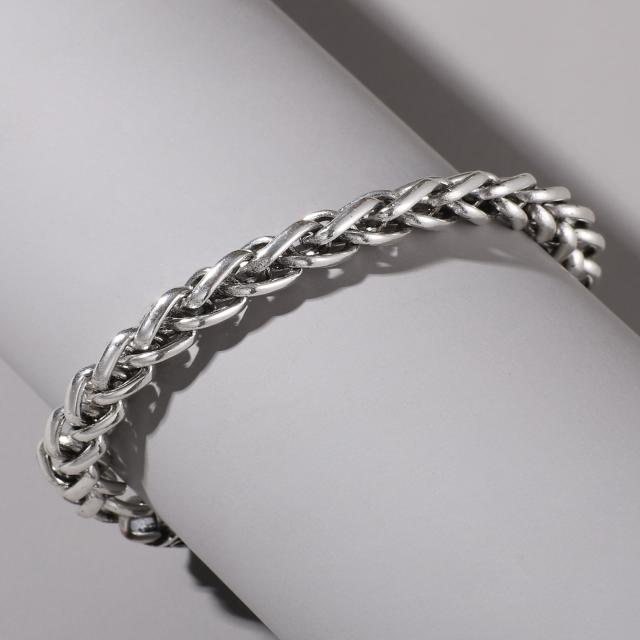bracelet: (0, 109, 640, 594)
